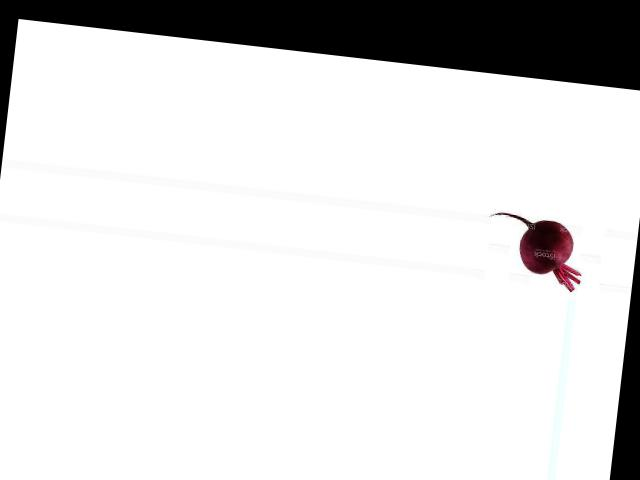beet: (481, 211, 587, 292)
